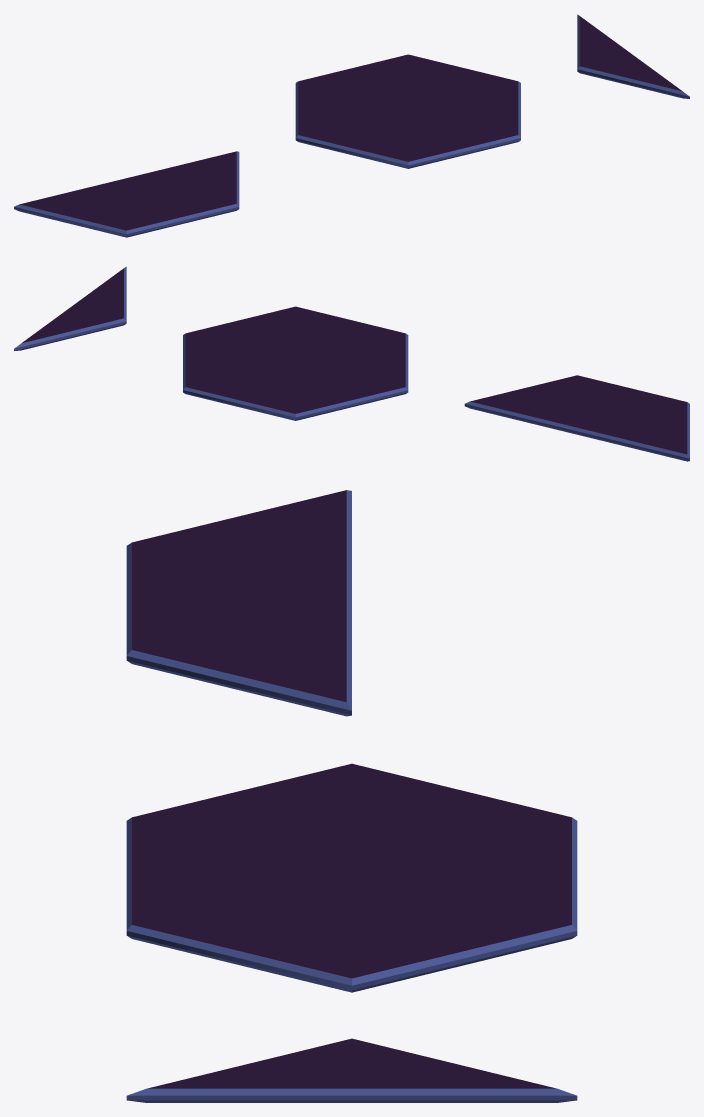
File: HexFloor.FBX
The picture shows the model from 3 angles, top to bottom: view 1: azimuth 30°, elevation 25°; view 2: azimuth 150°, elevation 25°; view 3: azimuth 270°, elevation 25°; orthographic projection. The views are drawn at different scales.
Visible parts, largest first — view 1: Cylinder001, Cylinder002, Cylinder003; view 2: Cylinder001, Cylinder002, Cylinder003; view 3: Cylinder001, Cylinder002, Cylinder003.
Boxes of the visible parts, bbox=[...] form: Cylinder001: bbox=[295, 54, 520, 168]; Cylinder002: bbox=[14, 151, 239, 237]; Cylinder003: bbox=[577, 14, 689, 98]; Cylinder001: bbox=[183, 306, 408, 420]; Cylinder002: bbox=[464, 375, 689, 461]; Cylinder003: bbox=[14, 266, 126, 350]; Cylinder001: bbox=[126, 763, 577, 992]; Cylinder002: bbox=[126, 490, 351, 716]; Cylinder003: bbox=[126, 1038, 577, 1102].
Bounding box in the file's own units: 5.5 × 0.0601 × 1.73.
